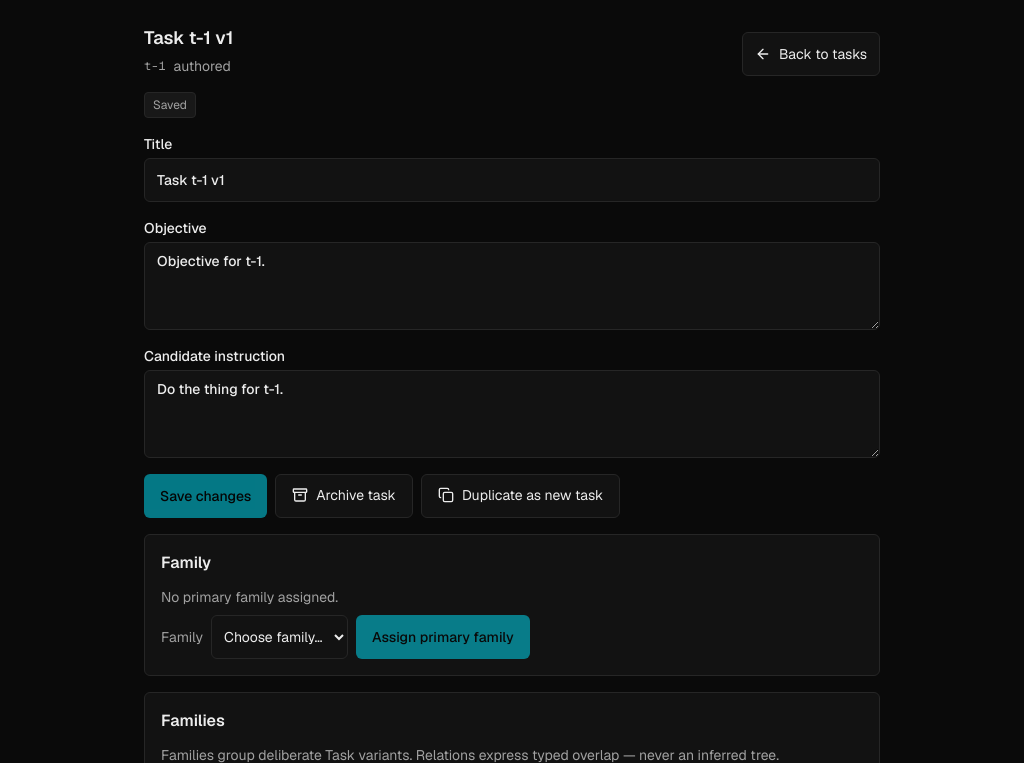
Test: TaskDetailRoute — archive/restore with revision CAS (spec §4.5) › archiving runs a two-step confirmation, then bounces the version CAS forward
Click the button "Archive task" at (344, 496), box [275,474,413,518]
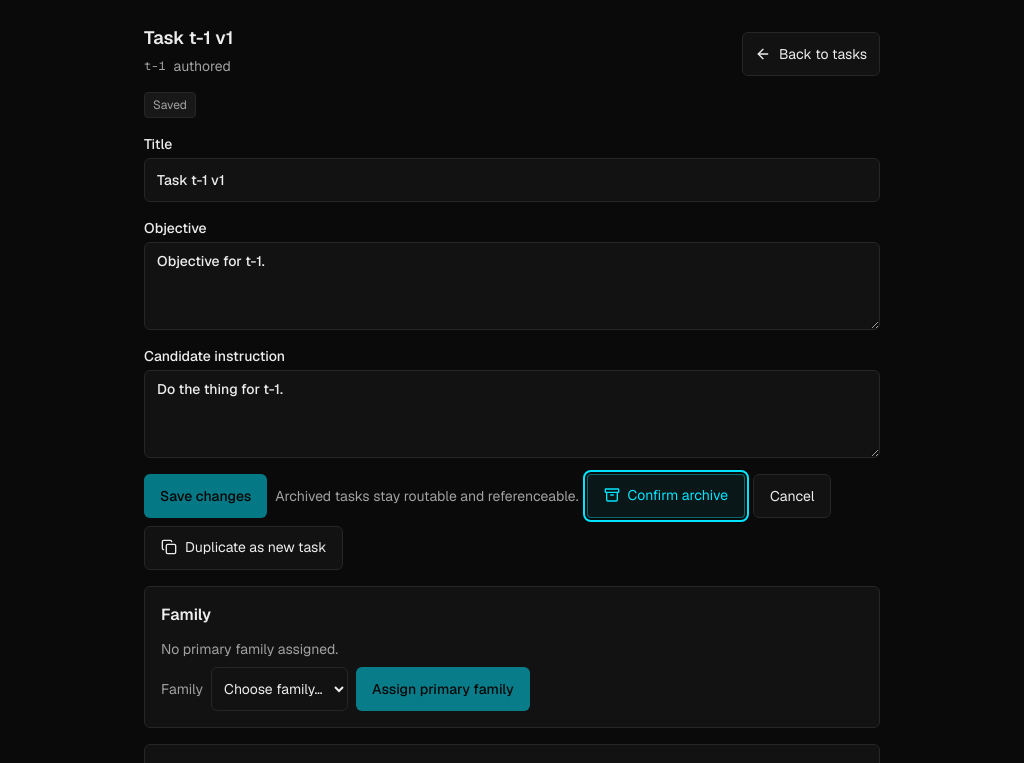
Check: the button "Confirm archive" is shown
Click the button "Confirm archive" at (666, 496), box [586,474,745,518]
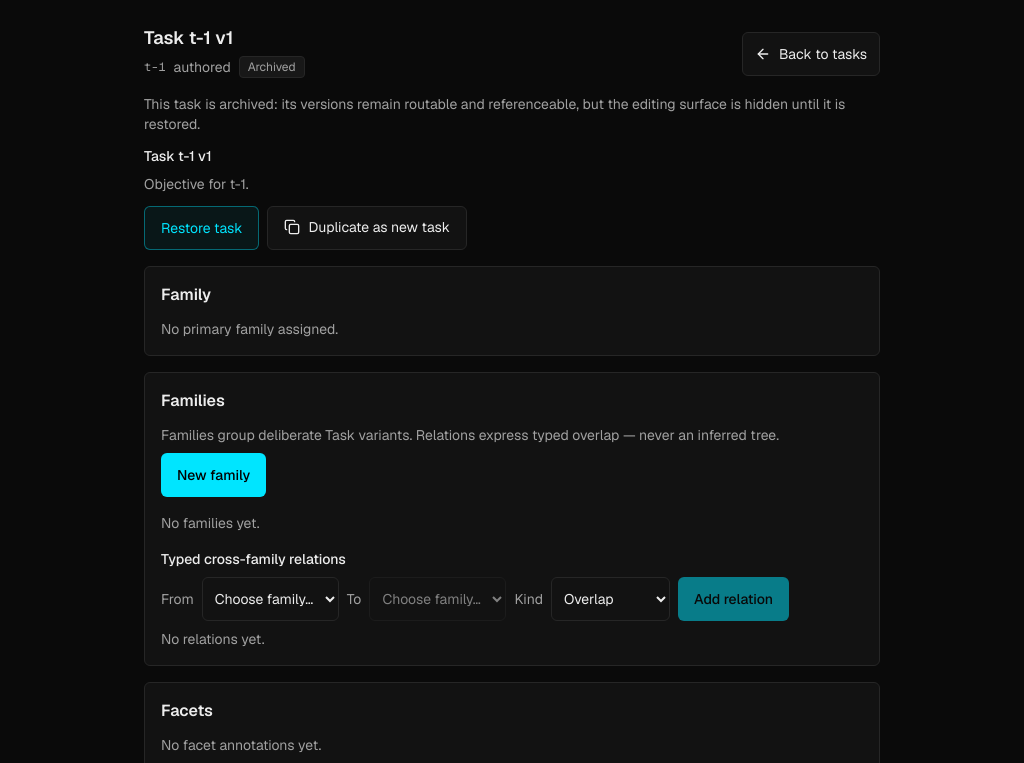
Check: the button "Restore task" is shown, box [144,206,260,250]
